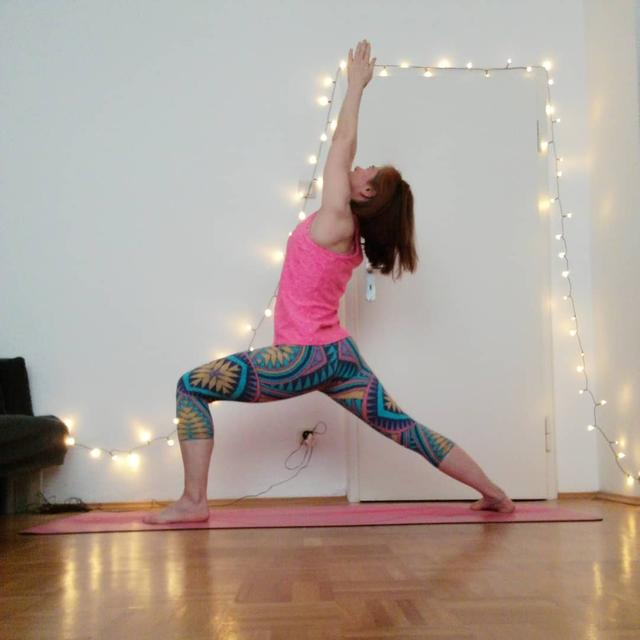Warrior_I: (137, 25, 520, 530)
